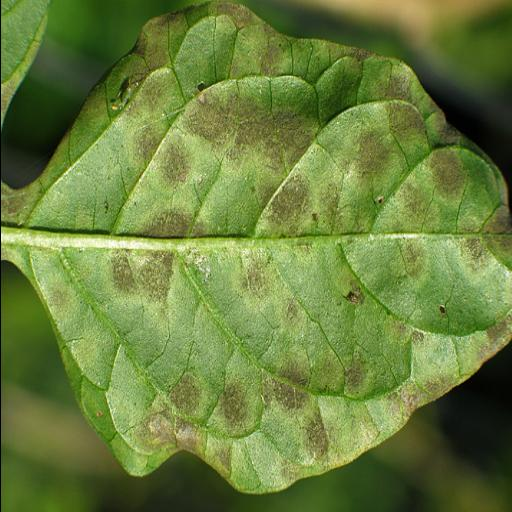Leaf Mold: (25, 0, 512, 503)
